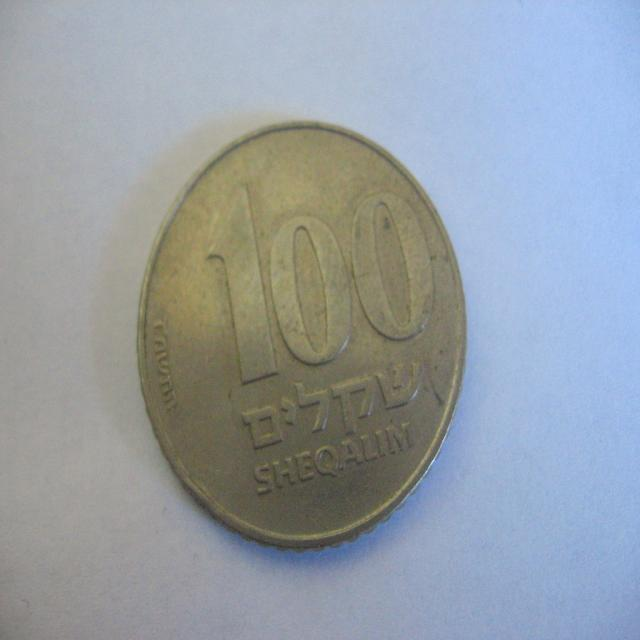Coin: (138, 116, 469, 551)
